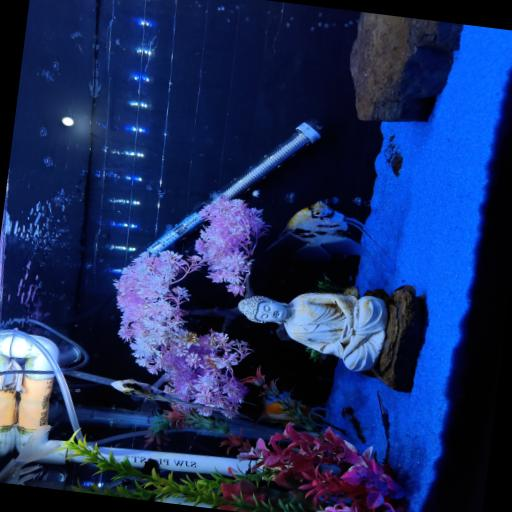Fish: (270, 201, 374, 261), (111, 379, 243, 416), (0, 426, 59, 484)
